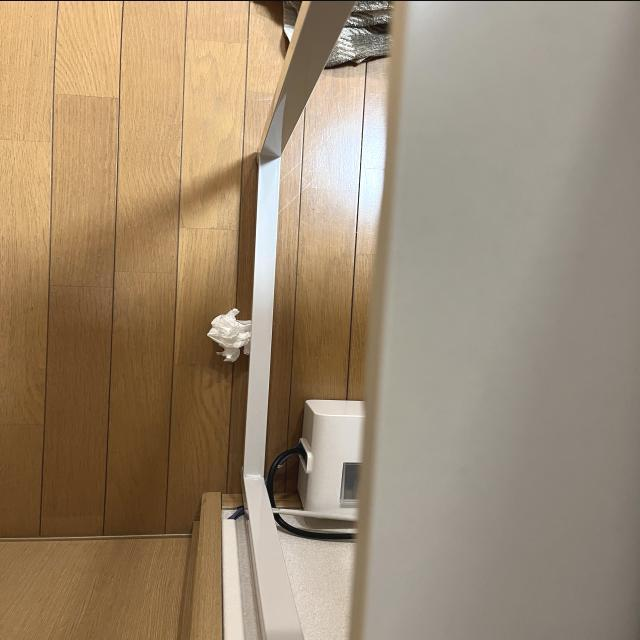Paper: (206, 298, 254, 366)
